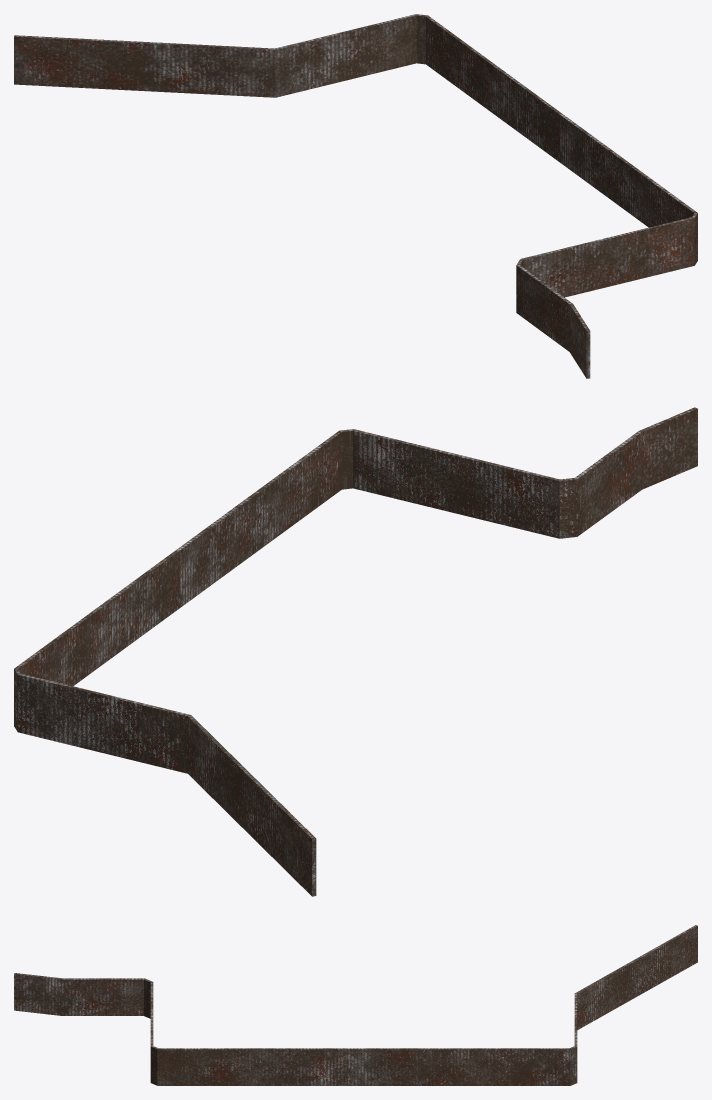
File: VallaCampamento2.obj
3 views of the same model, one above another, from view 1: azimuth 30°, elevation 25°; view 2: azimuth 150°, elevation 25°; view 3: azimuth 270°, elevation 25° (orthographic). The views are drawn at different scales.
Visible parts, largest first — view 1: Plane002; view 2: Plane002; view 3: Plane002.
Boxes of the visible parts, x1=… form: Plane002: x1=14, y1=14, x2=697, y2=378; Plane002: x1=14, y1=407, x2=697, y2=896; Plane002: x1=14, y1=925, x2=697, y2=1085.
Bounding box in the file's own units: 43.73 × 6 × 102.
1 material, 1 textured.
